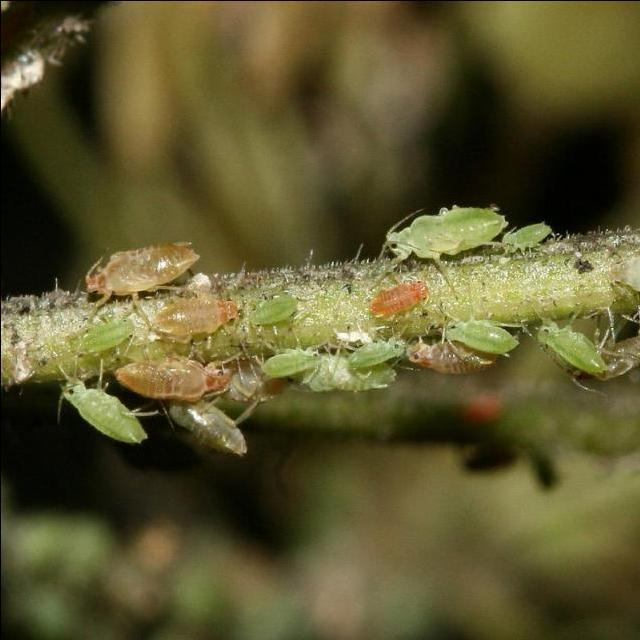aphid: (40, 199, 640, 487)
